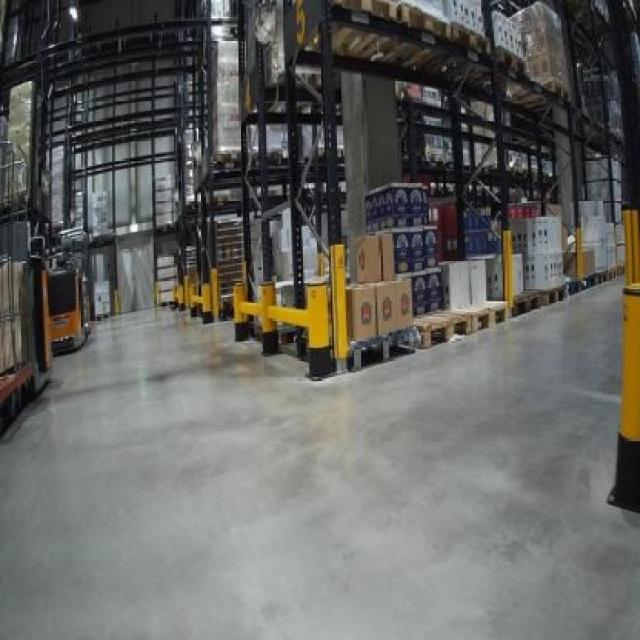floor: (0, 277, 637, 637)
pallets: (606, 283, 637, 509)
